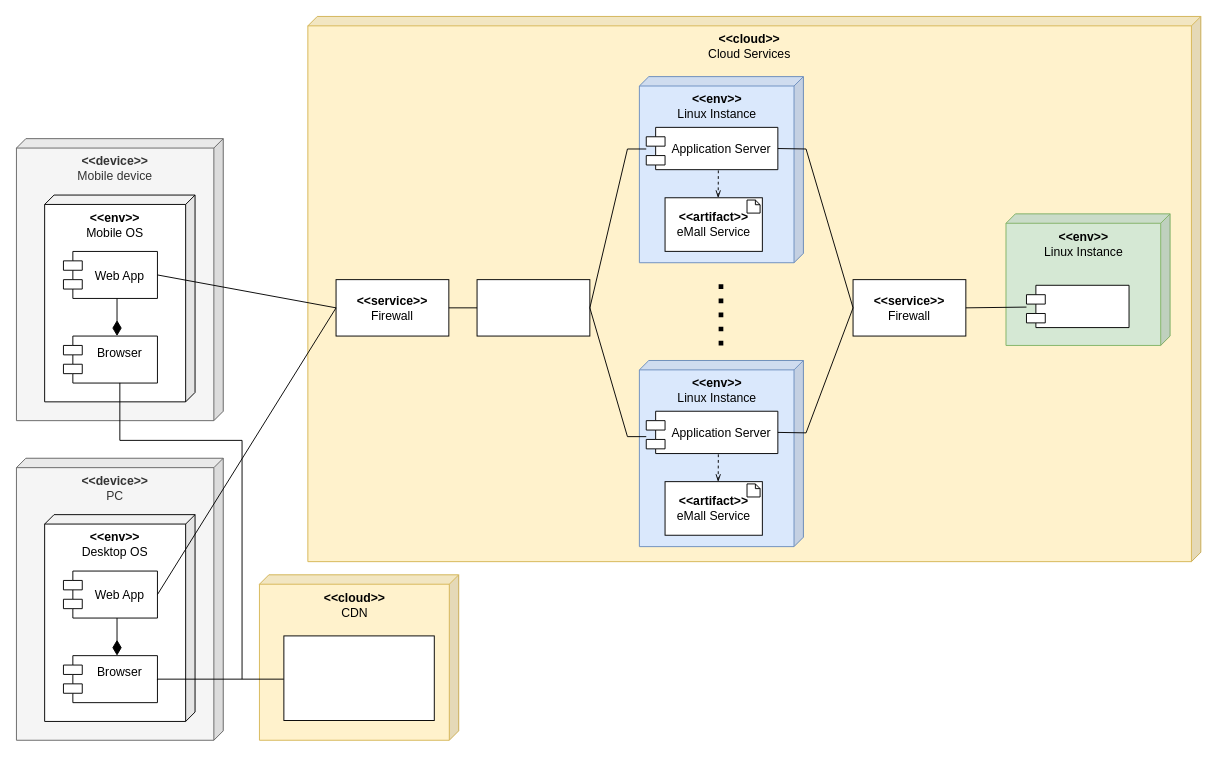
The diagram is 1217 pixels wide and 757 high, and some of its shapes have lost their labels. The centre of each missing label's shape, as x and y in pixels:
<<artifact>> Static Assets service-worker.js manifest.json: [358,678]
<<service>> Load Balancer: [533,307]
DBMS: [1077,306]
